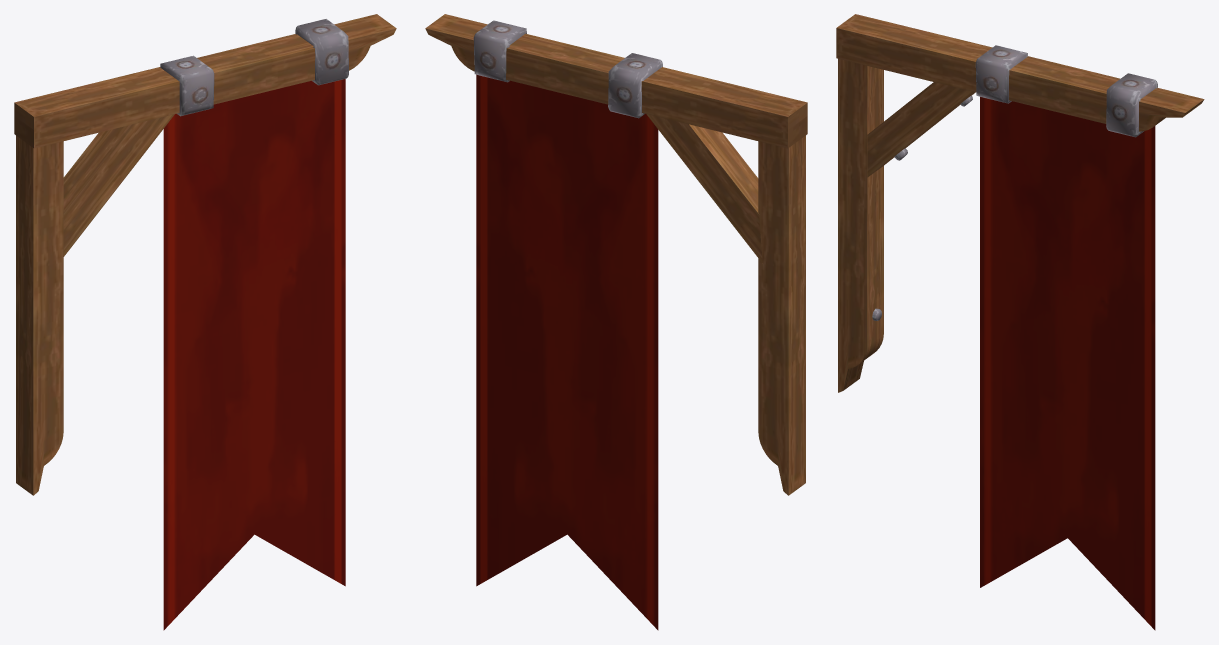
Rendered from Banner 1.glb.
3 renders of one model, left to right at view 1: azimuth 30°, elevation 25°; view 2: azimuth 150°, elevation 25°; view 3: azimuth 330°, elevation 25°, orthographic. The views are drawn at different scales.
Parts seen in each view (by area): view 1: Banner_1; view 2: Banner_1; view 3: Banner_1.
Boxes of the visible parts, box(x1,y1,x2,y2) form: Banner_1: box(14, 14, 396, 630); Banner_1: box(425, 14, 807, 630); Banner_1: box(836, 14, 1204, 630).
Size of the model in its own units: 1.61 by 2.39 by 0.1906.
Materials: 3 (3 with a texture image).
